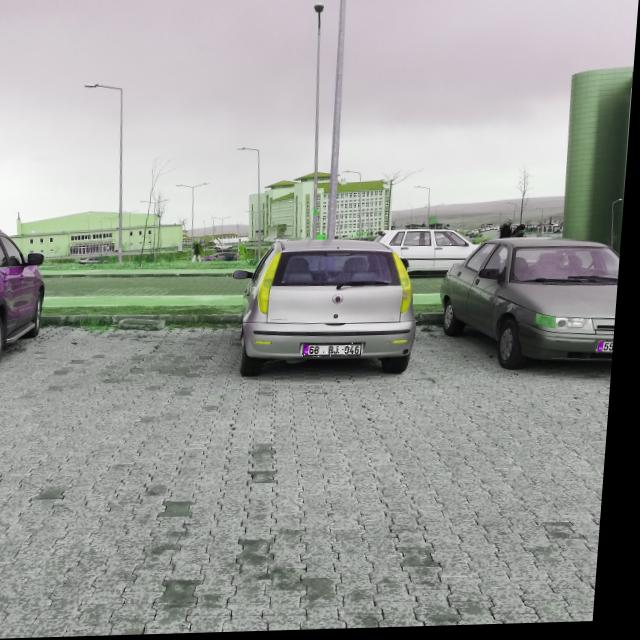license_plate: (308, 345, 367, 359), (601, 344, 619, 358)
